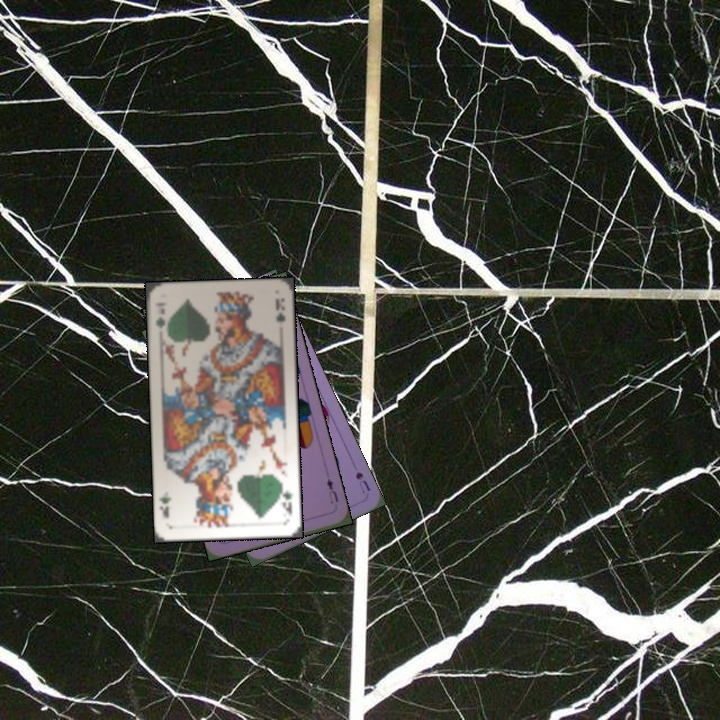EU: (322, 474, 341, 506)
GK: (277, 481, 295, 517), (151, 304, 168, 331)
SU: (351, 467, 373, 496)
